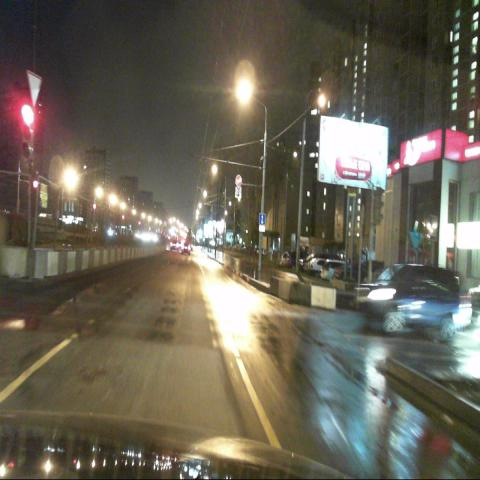2_4: (26, 70, 42, 108)
